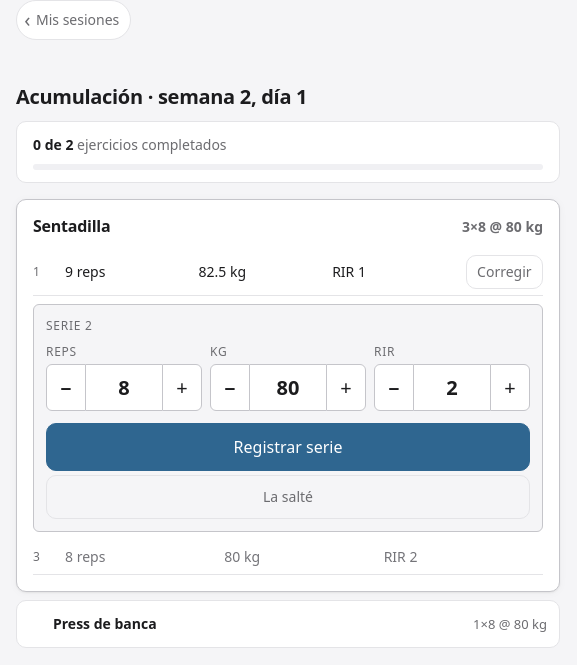
una serie abierta por vez › el segundo ejercicio está cerrado y se abre tocándolo
Expected: the number of fields named "Reps" is 1, [86,364,162,411]
Click the button "Press de banca 1×8 @ 80 kg".
click(105, 623)  # box [16,600,560,648]
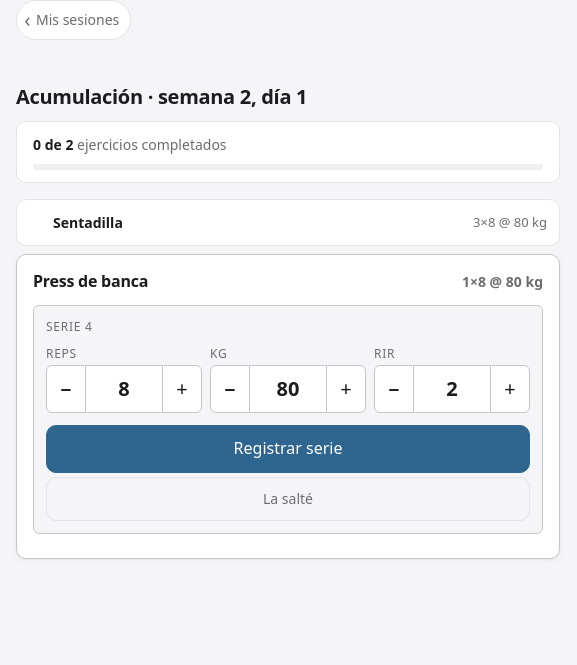
Result: the text "Serie 4" is shown at [46,318,92,335]
